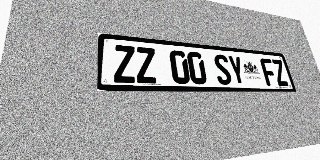0: (169, 50, 190, 84), (186, 51, 207, 84)
F: (259, 58, 278, 86)
S: (213, 54, 233, 85)
Y: (227, 55, 247, 85)
Z: (113, 45, 136, 83), (135, 47, 158, 83), (271, 59, 289, 86)
